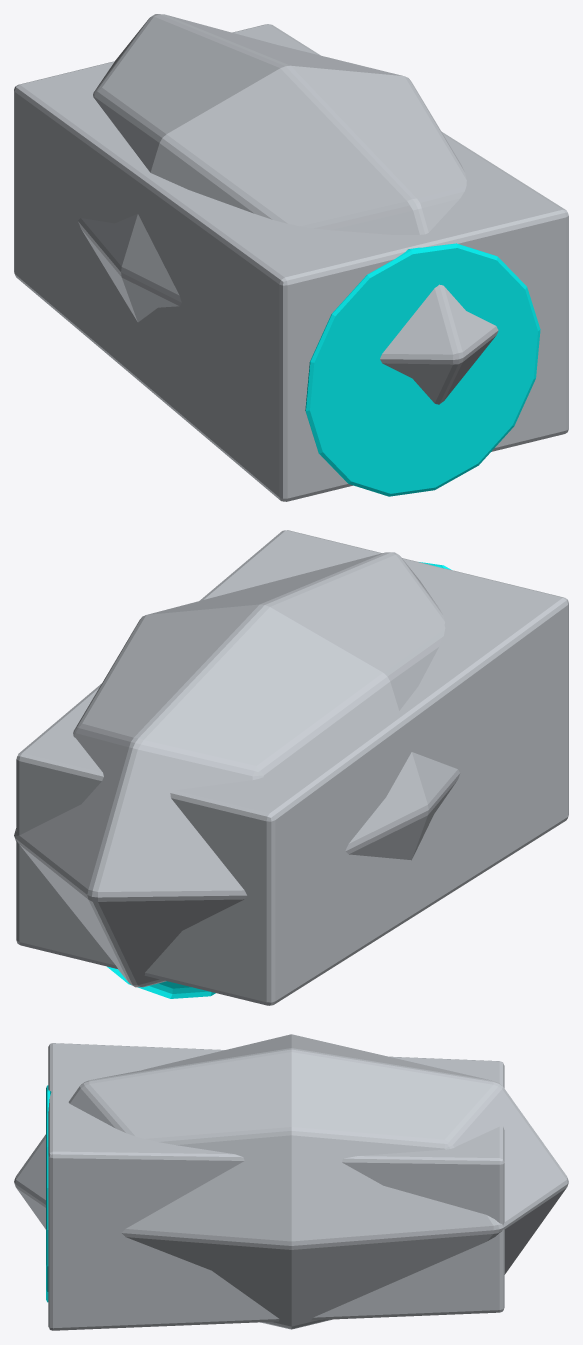
3 views of the same model, one above another, from view 1: azimuth 30°, elevation 25°; view 2: azimuth 150°, elevation 25°; view 3: azimuth 270°, elevation 25° (orthographic). The views are drawn at different scales.
Parts seen in each view (by area): view 1: part_08_gltf_export_temp; view 2: part_08_gltf_export_temp; view 3: part_08_gltf_export_temp.
Boxes of the visible parts, x1,y1,x2,y2 form: part_08_gltf_export_temp: [14, 14, 568, 501]; part_08_gltf_export_temp: [14, 530, 568, 1005]; part_08_gltf_export_temp: [14, 1034, 568, 1330].
Bounding box in the file's own units: 0.7307 × 0.704 × 1.34.
